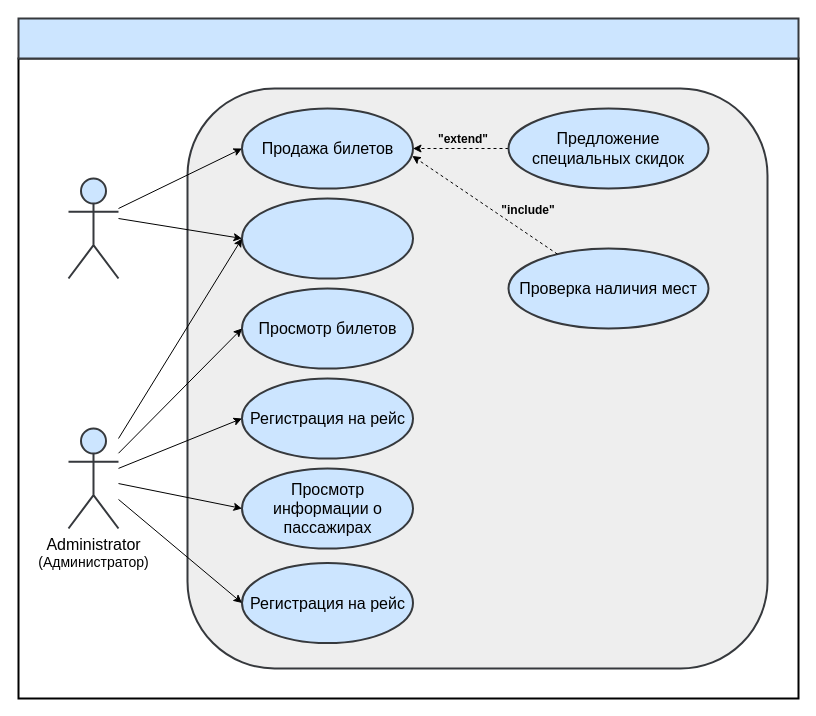
Image size: 816x716. Some labels were removed from this diagram. The shapes that lost their labels are listed below. From the top down, each one's centre as x and y in pixels, then its label:
At pixel 408 38: "Use-case diagram (диаграмма вариантов использования)".
At pixel 93 228: "Система бронирования (System)".
At pixel 327 238: "Отмена билетов".
